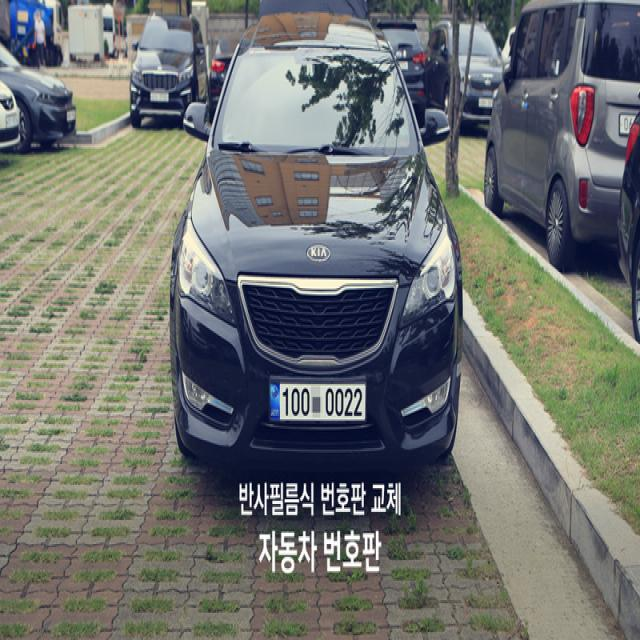car: (167, 6, 460, 493)
illegal_plate: (269, 377, 370, 430)
